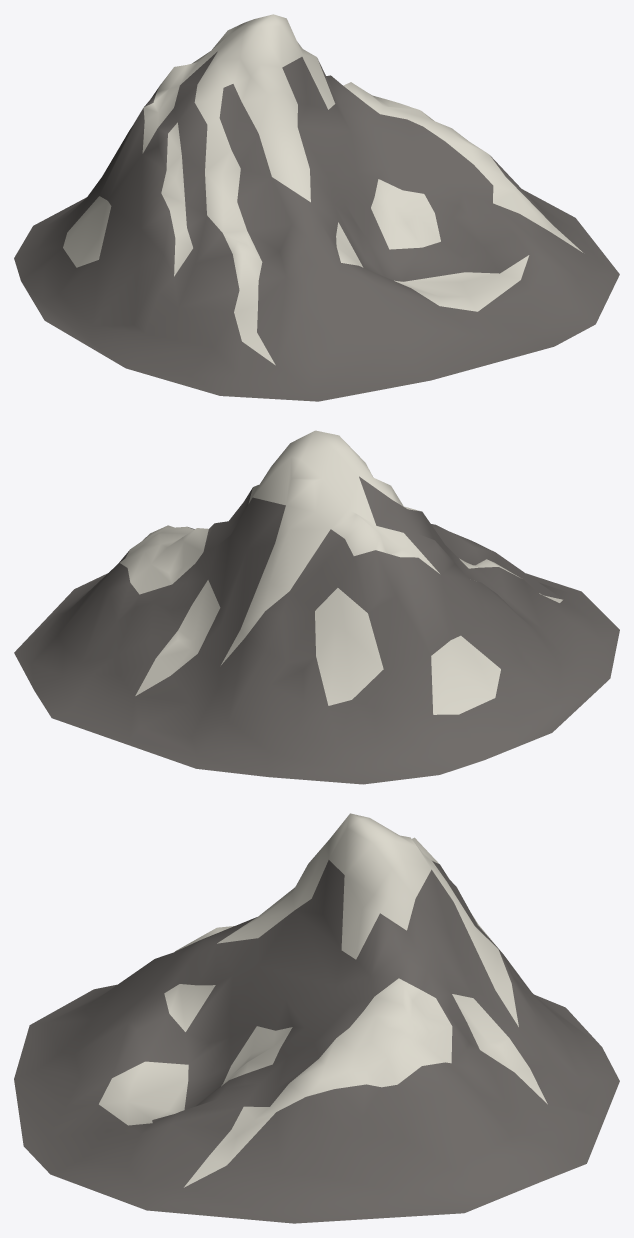
Rendered from rpgpp_ag_mountain_03.fbx.
3 views of the same model, one above another, from view 1: azimuth 30°, elevation 25°; view 2: azimuth 150°, elevation 25°; view 3: azimuth 270°, elevation 25° (orthographic). The views are drawn at different scales.
Visible parts, largest first — view 1: rpgpp_ag_mountain_03; view 2: rpgpp_ag_mountain_03; view 3: rpgpp_ag_mountain_03.
Part boxes in pixels (box(x1,y1,x2,y2)): rpgpp_ag_mountain_03: box(14, 14, 619, 401); rpgpp_ag_mountain_03: box(14, 430, 619, 784); rpgpp_ag_mountain_03: box(14, 813, 619, 1223).
Size of the model in its own units: 166 by 77.78 by 162.
